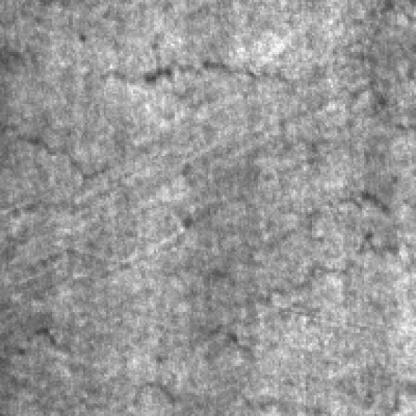crazing: (183, 181, 403, 362), (2, 112, 144, 275)
